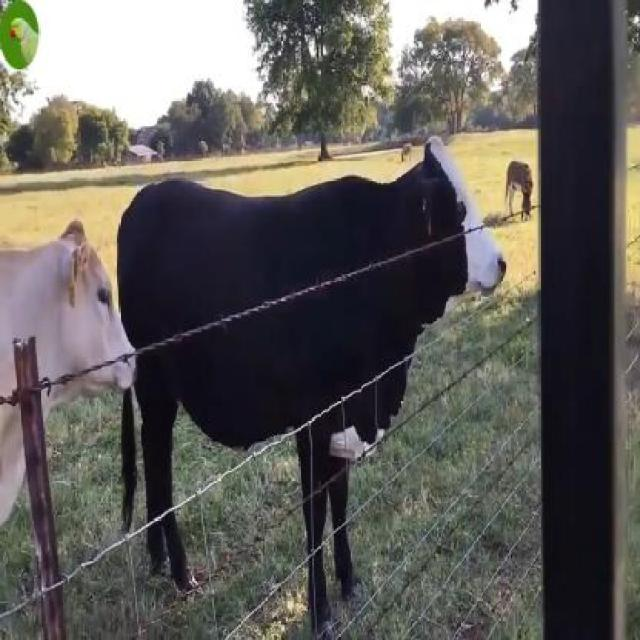Cow: (120, 139, 509, 606)
